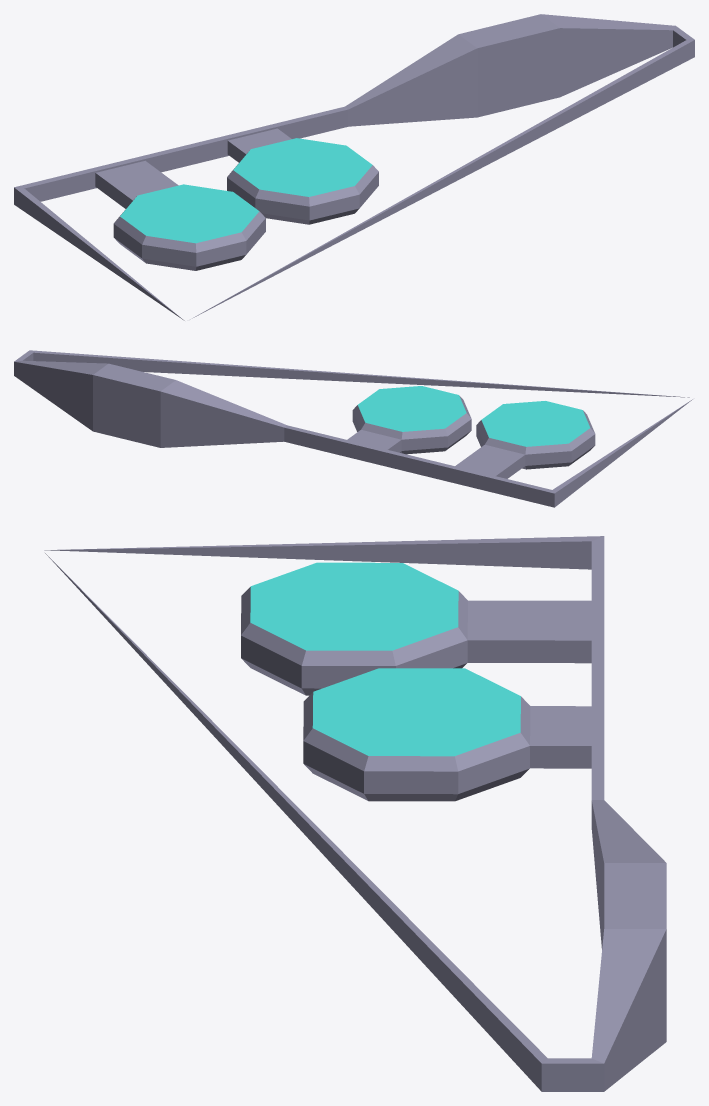
File: wing.fbx
3 views of the same model, one above another, from view 1: azimuth 30°, elevation 25°; view 2: azimuth 150°, elevation 25°; view 3: azimuth 270°, elevation 25° (orthographic). The views are drawn at different scales.
Parts seen in each view (by area): view 1: Cube; view 2: Cube; view 3: Cube.
Boxes of the visible parts, x1=… form: Cube: x1=14, y1=14, x2=694, y2=320; Cube: x1=14, y1=350, x2=692, y2=507; Cube: x1=44, y1=536, x2=666, y2=1091.
Size of the model in its own units: 2000 by 200 by 1000.
